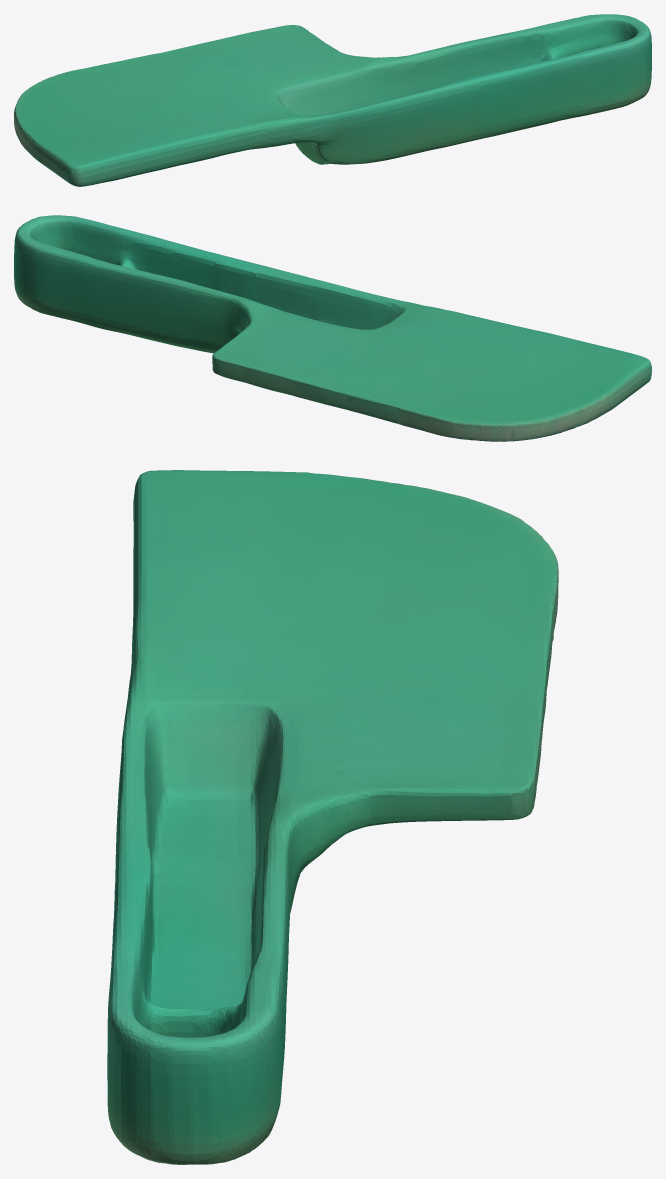
The picture shows the model from 3 angles, top to bottom: view 1: azimuth 30°, elevation 25°; view 2: azimuth 150°, elevation 25°; view 3: azimuth 270°, elevation 25°; orthographic projection. The views are drawn at different scales.
Visible parts, largest first — view 1: geometry_0; view 2: geometry_0; view 3: geometry_0.
Part boxes in pixels (x1,y1,x2,y2): geometry_0: (14,14,651,186); geometry_0: (14,215,651,441); geometry_0: (107,470,558,1164).
Bounding box in the file's own units: 0.18 × 0.02 × 0.06.
